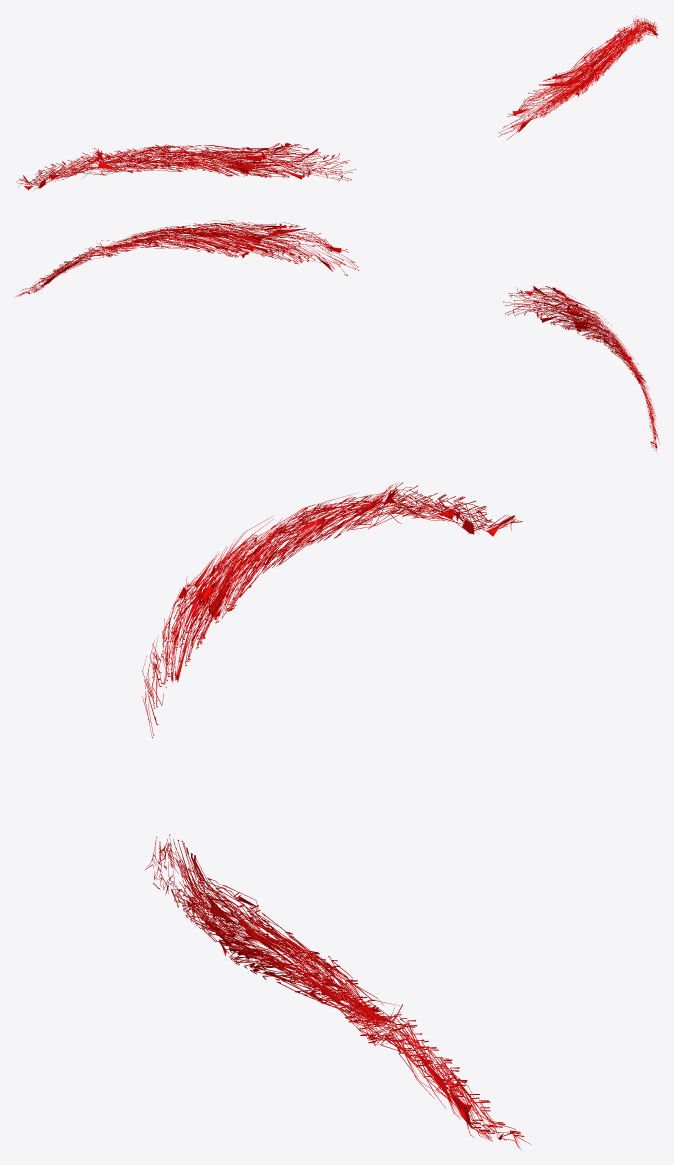
File: mindfront_eyebrows_03_M.glb
3 views of the same model, one above another, from view 1: azimuth 30°, elevation 25°; view 2: azimuth 150°, elevation 25°; view 3: azimuth 270°, elevation 25° (orthographic). The views are drawn at different scales.
Size of the model in its own units: 0.1218 by 0.0114 by 0.032.
1 material, 1 textured.
